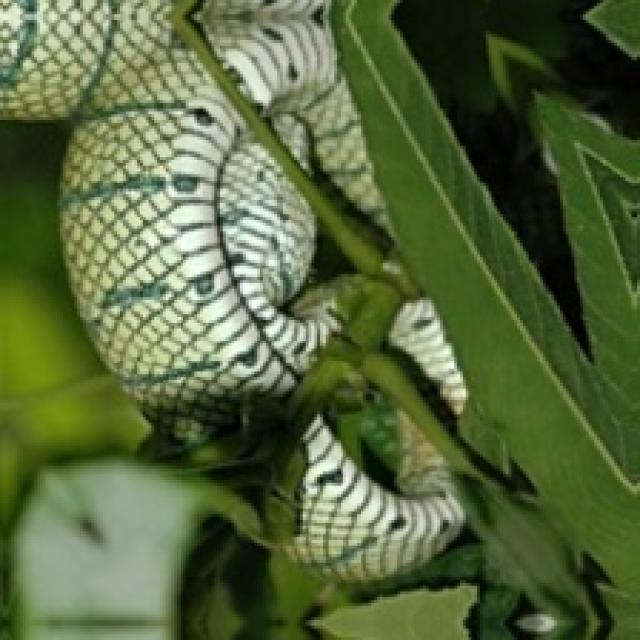north ph temple pitviper: (0, 0, 334, 440), (200, 0, 383, 223), (289, 414, 460, 574)
